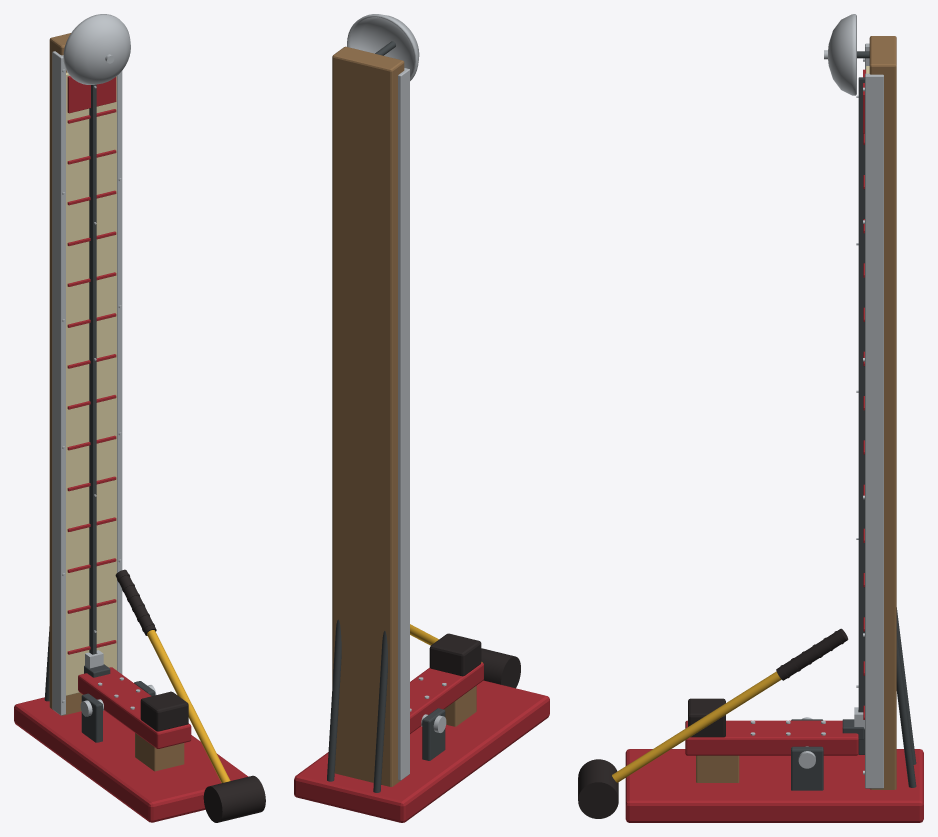
3 renders of one model, left to right at view 1: azimuth 30°, elevation 25°; view 2: azimuth 150°, elevation 25°; view 3: azimuth 270°, elevation 25°, orthographic. The views are drawn at different scales.
Parts seen in each view (by area): view 1: Pale vertical score face, Grounded long game base, Metal score edge rail -1, Central raised slider guide, Convex round top bell shell, Metal score edge rail 1, Long static strike lever, Tall closed structural score post, Grounded companion mallet head, Mallet painted handle, Upper black striking pad, Top target color field (+3 smaller); view 2: Tall closed structural score post, Grounded long game base, Metal score edge rail -1, Convex round top bell shell, Long static strike lever, Upper black striking pad, Generic rear post brace 1, Generic rear post brace -1, Grounded companion mallet head, Lever pivot bracket -1, Grounded lever support block; view 3: Grounded long game base, Metal score edge rail 1, Tall closed structural score post, Long static strike lever, Central raised slider guide, Grounded companion mallet head, Mallet painted handle, Convex round top bell shell, Lever pivot bracket 1, Grounded lever support block, Generic rear post brace 1, Upper black striking pad (+1 smaller).
Part boxes in pixels (box(x1,y1,x2,y2)): Pale vertical score face: box(66, 72, 116, 695); Grounded long game base: box(14, 697, 247, 822); Metal score edge rail -1: box(52, 51, 65, 715); Central raised slider guide: box(89, 84, 96, 654); Convex round top bell shell: box(63, 14, 130, 84); Metal score edge rail 1: box(117, 71, 122, 674); Long static strike lever: box(78, 667, 191, 748); Tall closed structural score post: box(49, 33, 82, 715); Grounded companion mallet head: box(203, 775, 265, 822); Mallet painted handle: box(147, 630, 230, 782); Upper black striking pad: box(140, 691, 188, 731); Top target color field: box(67, 76, 116, 113); Tall closed structural score post: box(332, 46, 404, 786); Grounded long game base: box(294, 680, 549, 822); Metal score edge rail -1: box(398, 68, 409, 780); Convex round top bell shell: box(347, 14, 419, 80); Long static strike lever: box(410, 662, 483, 733); Upper black striking pad: box(429, 633, 481, 676); Generic rear post brace 1: box(327, 619, 341, 781); Generic rear post brace -1: box(373, 631, 387, 792); Grounded companion mallet head: box(481, 648, 520, 688); Lever pivot bracket -1: box(422, 708, 445, 760); Grounded lever support block: box(444, 686, 476, 726); Grounded long game base: box(625, 749, 923, 822); Metal score edge rail 1: box(865, 73, 883, 788); Tall closed structural score post: box(869, 36, 896, 789); Long static strike lever: box(685, 720, 858, 755); Central raised slider guide: box(858, 77, 864, 754); Grounded companion mallet head: box(578, 759, 618, 818); Mallet painted handle: box(612, 671, 781, 782); Convex round top bell shell: box(828, 14, 856, 95); Lever pivot bracket 1: box(791, 746, 823, 790); Grounded lever support block: box(696, 755, 739, 782); Generic rear post brace 1: box(896, 630, 916, 787); Upper black striking pad: box(688, 698, 725, 737).
Size of the model in its own units: 0.48 by 3.17 by 1.28.
